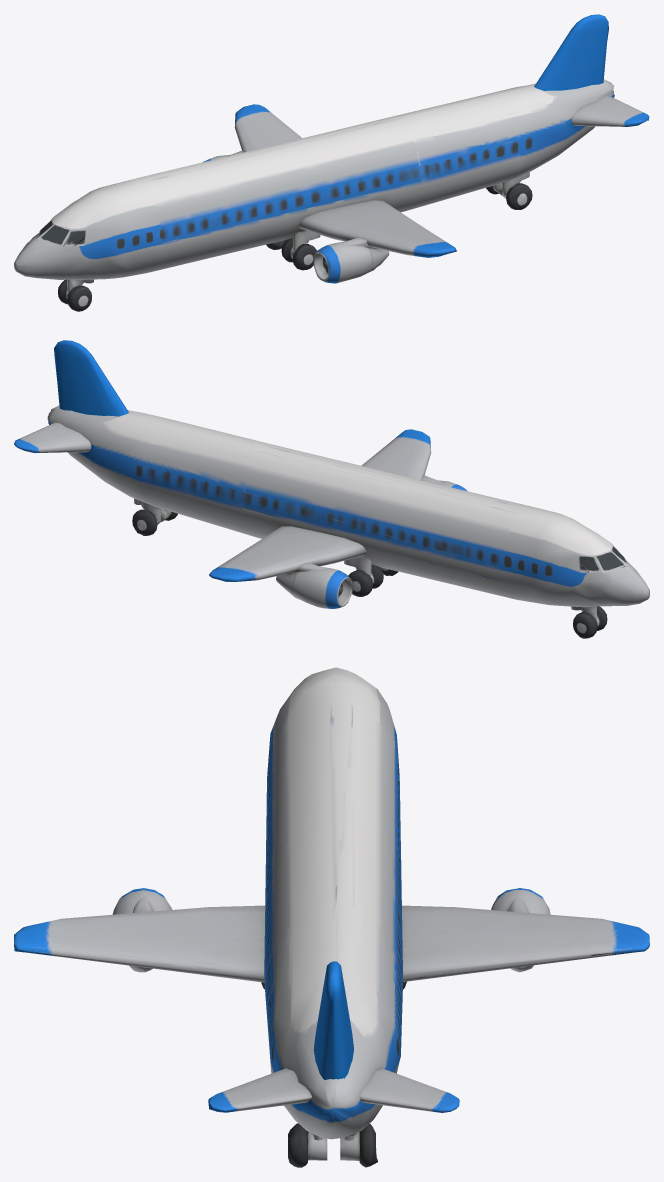
Rendered from 40_airplane_textured.glb.
The picture shows the model from 3 angles, top to bottom: view 1: azimuth 30°, elevation 25°; view 2: azimuth 150°, elevation 25°; view 3: azimuth 270°, elevation 25°; orthographic projection. The views are drawn at different scales.
Visible parts, largest first — view 1: geometry_0; view 2: geometry_0; view 3: geometry_0.
Boxes of the visible parts, x1=… form: geometry_0: x1=14, y1=14, x2=649, y2=311; geometry_0: x1=14, y1=340, x2=649, y2=638; geometry_0: x1=14, y1=667, x2=649, y2=1167.
Bounding box in the file's own units: 0.9561 × 0.2529 × 0.5498.
1 material, 1 textured.
